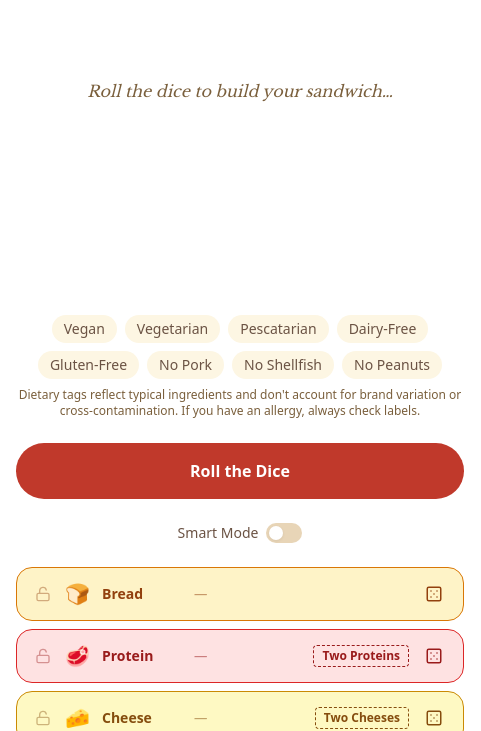
Test: HomePage › after rolling › changes button label to "Roll Again" after a full roll
This screenshot has width=481, height=731.
Step 1. Click the button "Roll the Dice" → click(240, 471), box x1=16 y1=443 x2=464 y2=499
Wait 4500 ms
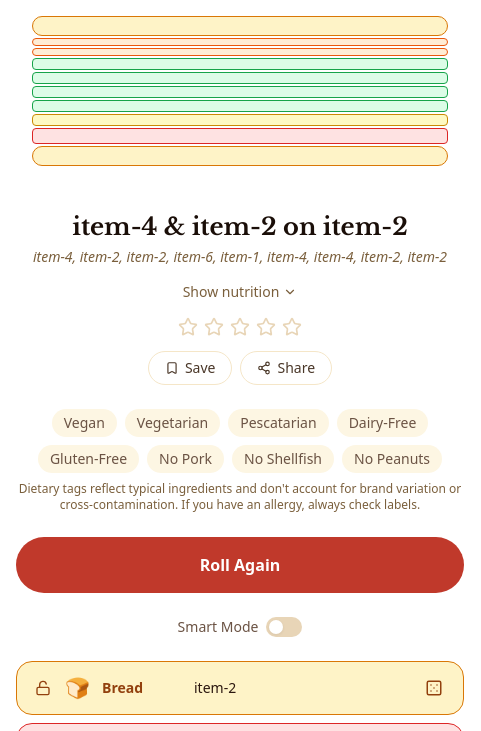
Check: the button "Roll Again" is shown, box x1=16 y1=537 x2=464 y2=593
